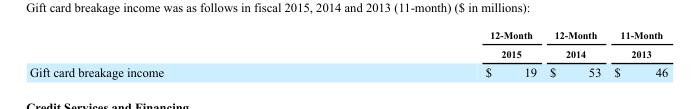table: (28, 29, 667, 78)
table column: (28, 29, 323, 78), (323, 29, 542, 78), (542, 29, 606, 78), (606, 29, 667, 78)
table column header: (28, 29, 667, 61)
table row: (28, 29, 667, 61), (28, 61, 667, 78)
